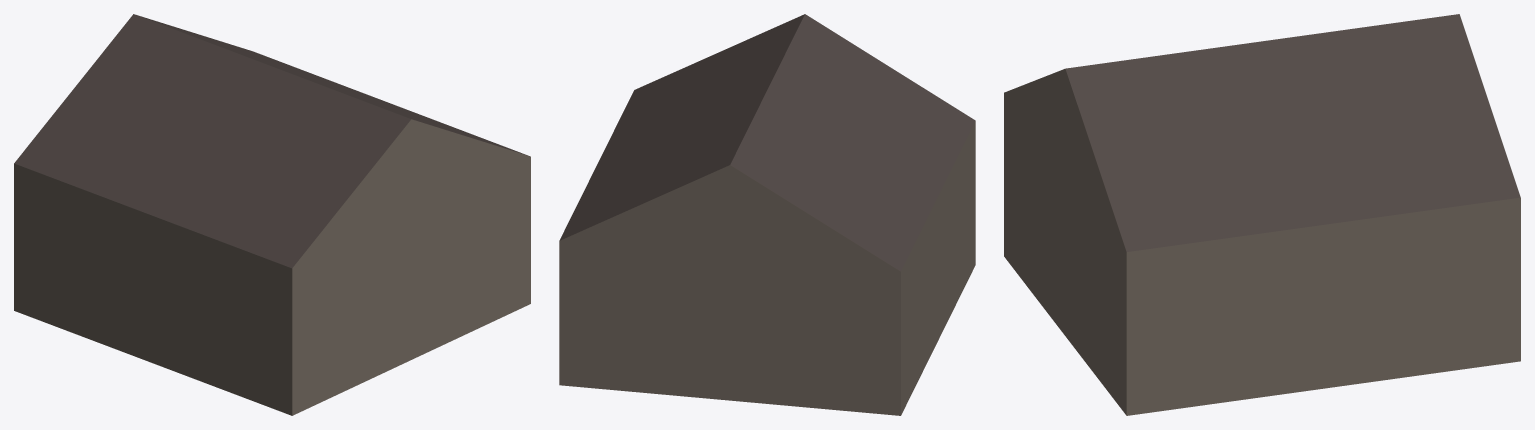
3 views of the same model, side by side, from view 1: azimuth 30°, elevation 25°; view 2: azimuth 150°, elevation 25°; view 3: azimuth 270°, elevation 25° (orthographic). The views are drawn at different scales.
Visible parts, largest first — view 1: HP-w859424239; view 2: HP-w859424239; view 3: HP-w859424239.
Boxes of the visible parts, x1,y1,x2,y2 form: HP-w859424239: (14,14,530,415); HP-w859424239: (559,14,975,415); HP-w859424239: (1004,14,1520,415).
Size of the model in its own units: 16.82 by 9.8 by 17.15.
